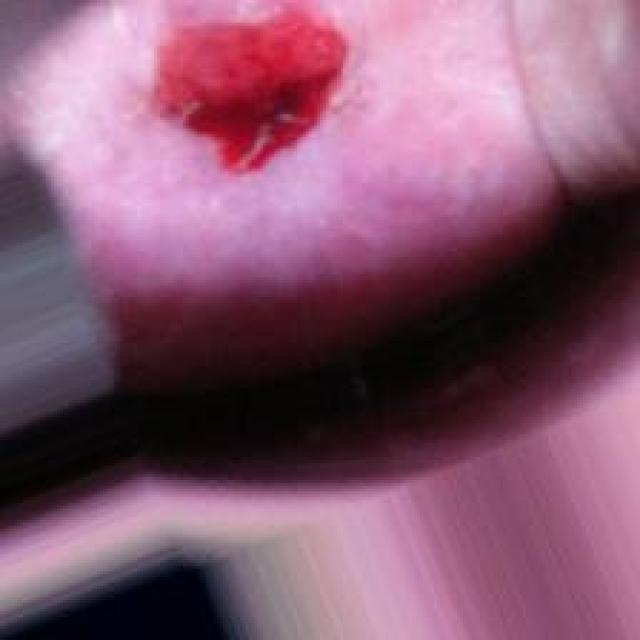type-1: (31, 0, 557, 344)
